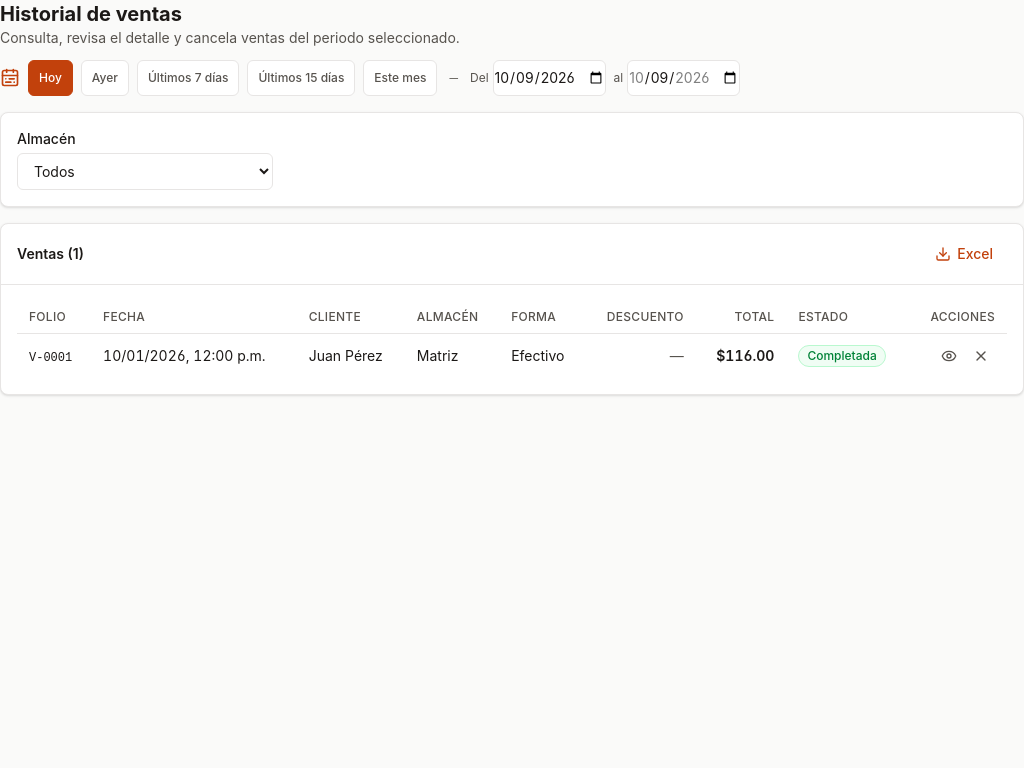
it: VentasPage › abre el detalle al hacer clic en Ver detalle
Click the button named "Ver detalle de V-0001" at [949, 356], box [935,342,963,370]
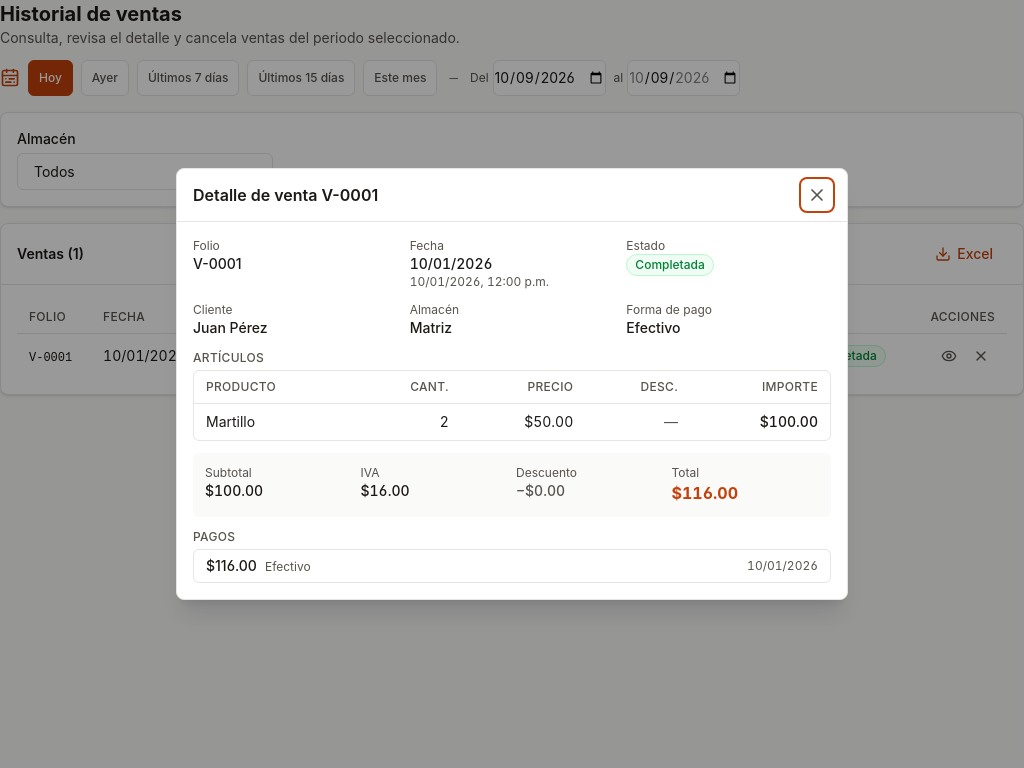
Check: the heading "Detalle de venta V-0001" is shown, box [193,183,378,207]
Check: the text "Artículos" is shown, box [193,350,264,365]
Check: the text "Martillo" is shown, box [206,412,255,432]
